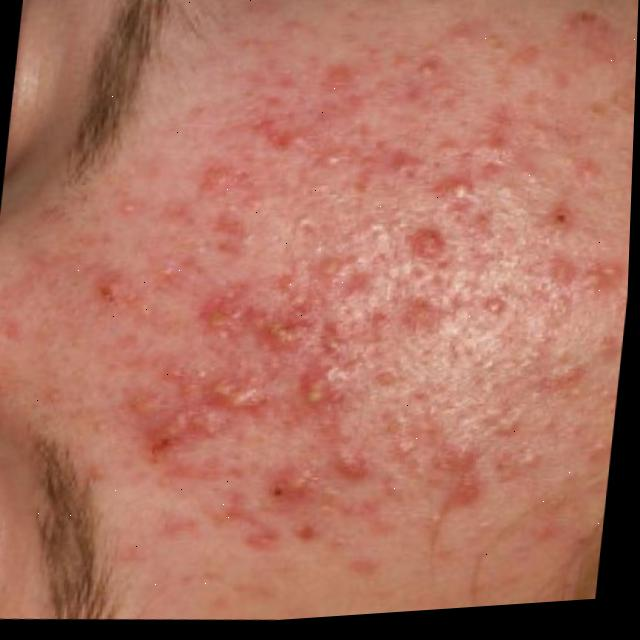Rosacea: (126, 26, 596, 548)
